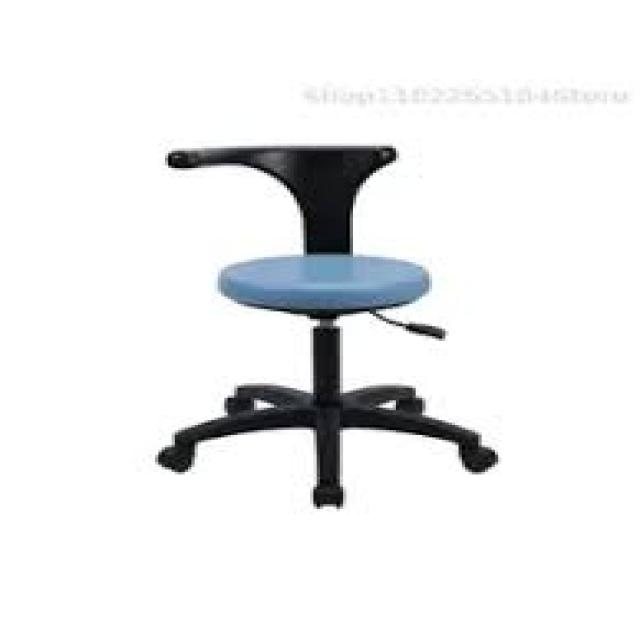chair: (80, 134, 514, 538)
